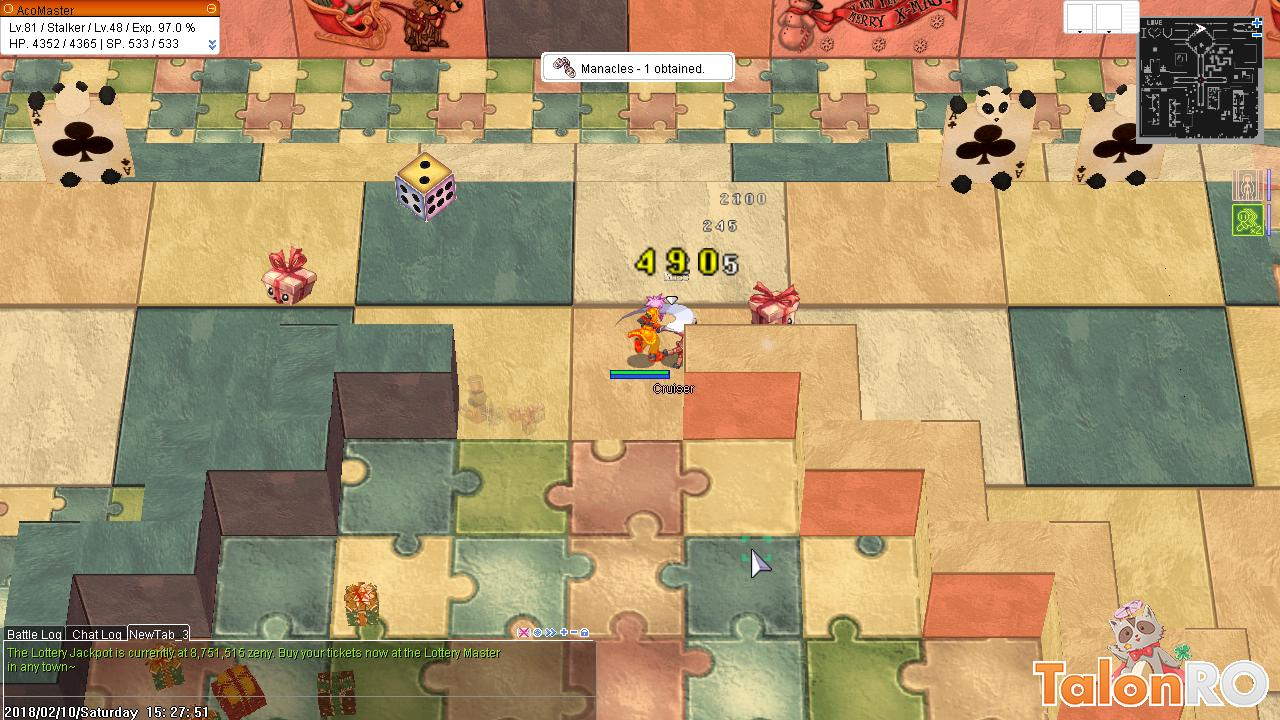myst_case: (257, 243, 320, 311), (747, 280, 807, 334)
